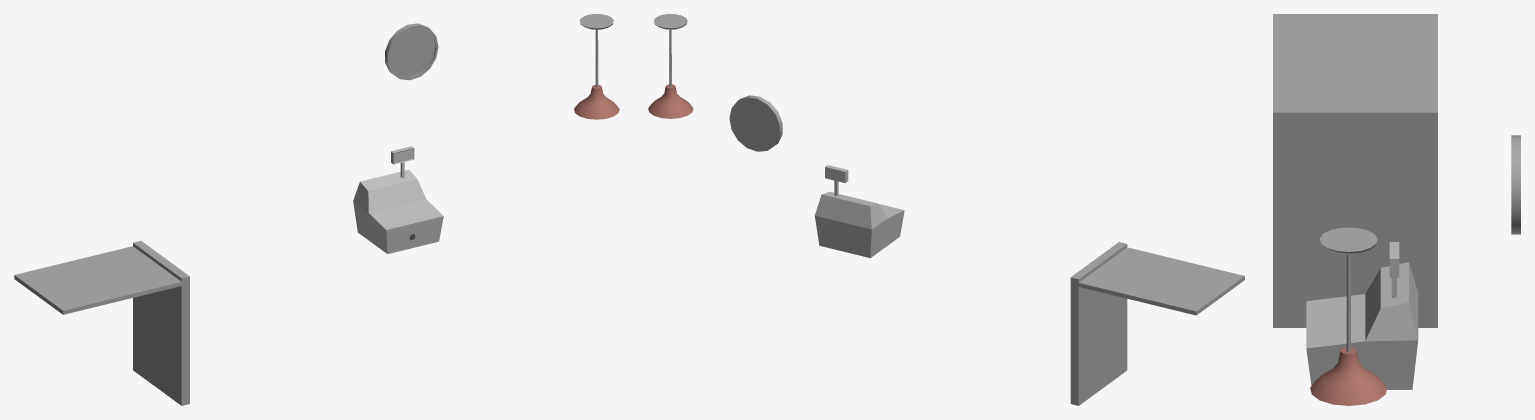
File: Cafe_Assets_02.fbx
The picture shows the model from 3 angles, left to right: view 1: azimuth 30°, elevation 25°; view 2: azimuth 150°, elevation 25°; view 3: azimuth 270°, elevation 25°; orthographic projection. The views are drawn at different scales.
Visible parts, largest first — view 1: pCube37, pCube36, pCube31, Clock, Lamp, pCube32; view 2: pCube36, pCube37, pCube31, Clock, Lamp; view 3: pCube36, pCube37, pCube31, Lamp, Clock.
Boxes of the visible parts, x1=… form: pCube37: x1=14, y1=246, x2=182, y2=314; pCube36: x1=133, y1=241, x2=189, y2=405; pCube31: x1=353, y1=146, x2=443, y2=253; Clock: x1=385, y1=23, x2=438, y2=80; Lamp: x1=574, y1=14, x2=619, y2=119; pCube32: x1=389, y1=218, x2=440, y2=252; pCube36: x1=1070, y1=242, x2=1127, y2=405; pCube37: x1=1078, y1=247, x2=1244, y2=315; pCube31: x1=814, y1=165, x2=904, y2=257; Clock: x1=729, y1=95, x2=782, y2=151; Lamp: x1=648, y1=14, x2=693, y2=118; pCube36: x1=1273, y1=106, x2=1437, y2=327; pCube37: x1=1273, y1=14, x2=1437, y2=105; pCube31: x1=1306, y1=242, x2=1418, y2=389; Lamp: x1=1310, y1=227, x2=1387, y2=405; Clock: x1=1511, y1=135, x2=1520, y2=234.
Bounding box in the file's own units: 6.8 × 2.95 × 1.5.
